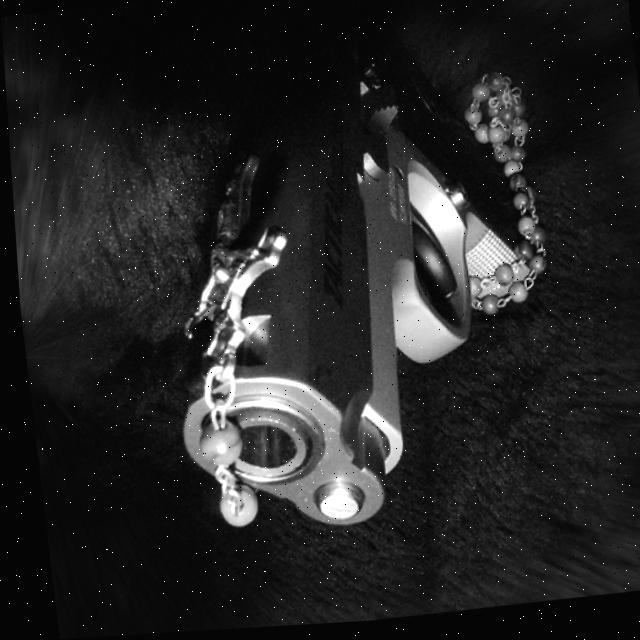pistol: (133, 16, 553, 545)
